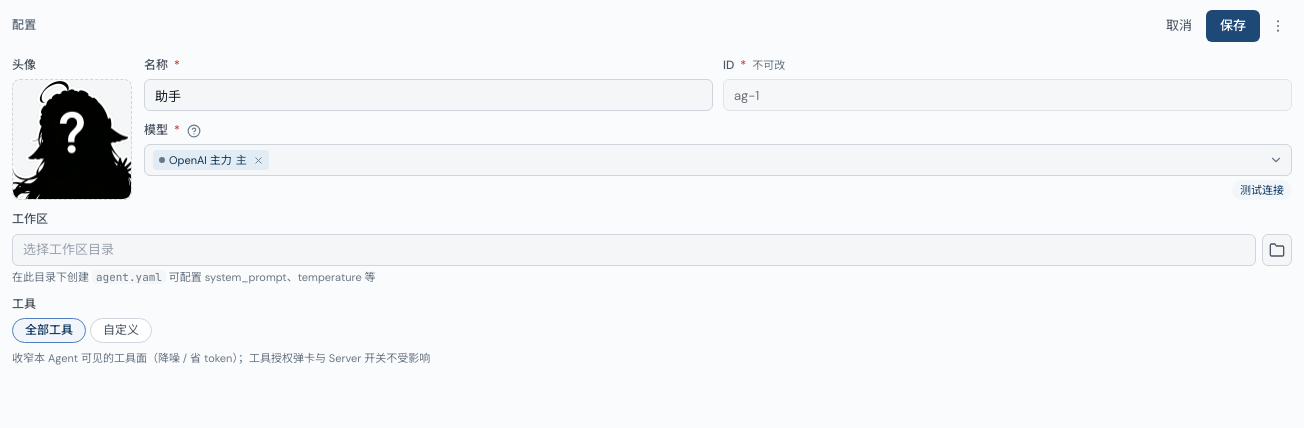
Scenario: AgentForm 工具集范围区块 › 选项数据源：内置组（带计数）+ 外部 server 每台一项
默认全开 → 先切自定义
Click the button "自定义": click(121, 331) [90, 318, 152, 343]
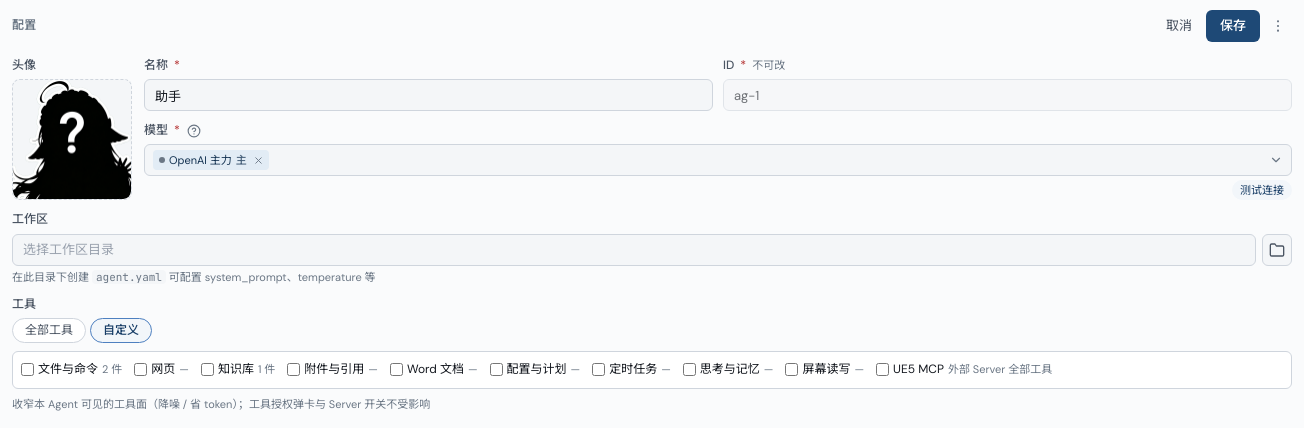
Expected: the text with class "opt-note" reads "2 件", [102, 362, 122, 376]
Expected: the checkbox labelled "文件与命令 2 件" holds "group:files", [21, 363, 34, 376]
Expected: the checkbox labelled "UE5 MCP 外部 Server 全部工具" holds "server:ue5-mcp", [876, 363, 889, 376]
